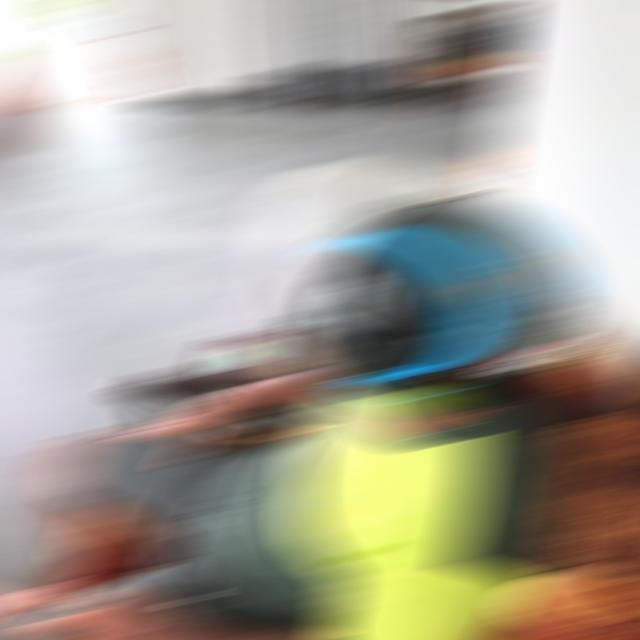With Helmet: (250, 160, 590, 414)
